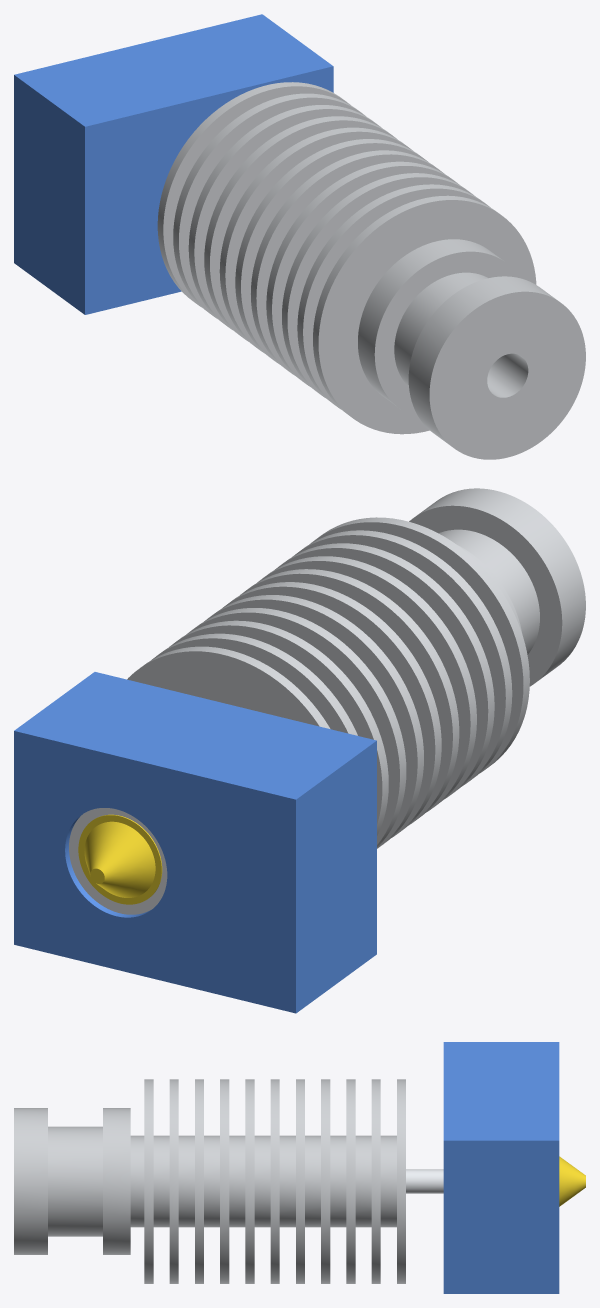
3 renders of one model, top to bottom at view 1: azimuth 30°, elevation 25°; view 2: azimuth 150°, elevation 25°; view 3: azimuth 270°, elevation 25°, orthographic. The views are drawn at different scales.
Visible parts, largest first — view 1: v6_groove_heatsink, v6_silicone_sock; view 2: v6_silicone_sock, v6_groove_heatsink, v6_brass_nozzle, v6_al_heater_block; view 3: v6_groove_heatsink, v6_silicone_sock, v6_ss304_heatbreak, v6_brass_nozzle.
Boxes of the visible parts, x1,y1,x2,y2 form: v6_groove_heatsink: [157, 82, 585, 459]; v6_silicone_sock: [14, 14, 333, 314]; v6_silicone_sock: [14, 672, 376, 1013]; v6_groove_heatsink: [127, 488, 585, 848]; v6_brass_nozzle: [78, 814, 162, 904]; v6_al_heater_block: [69, 808, 167, 914]; v6_groove_heatsink: [14, 1079, 405, 1283]; v6_silicone_sock: [443, 1042, 559, 1293]; v6_ss304_heatbreak: [406, 1169, 443, 1193]; v6_brass_nozzle: [559, 1156, 585, 1206].
Size of the model in its own units: 0.0274 by 0.0223 by 0.0623.
